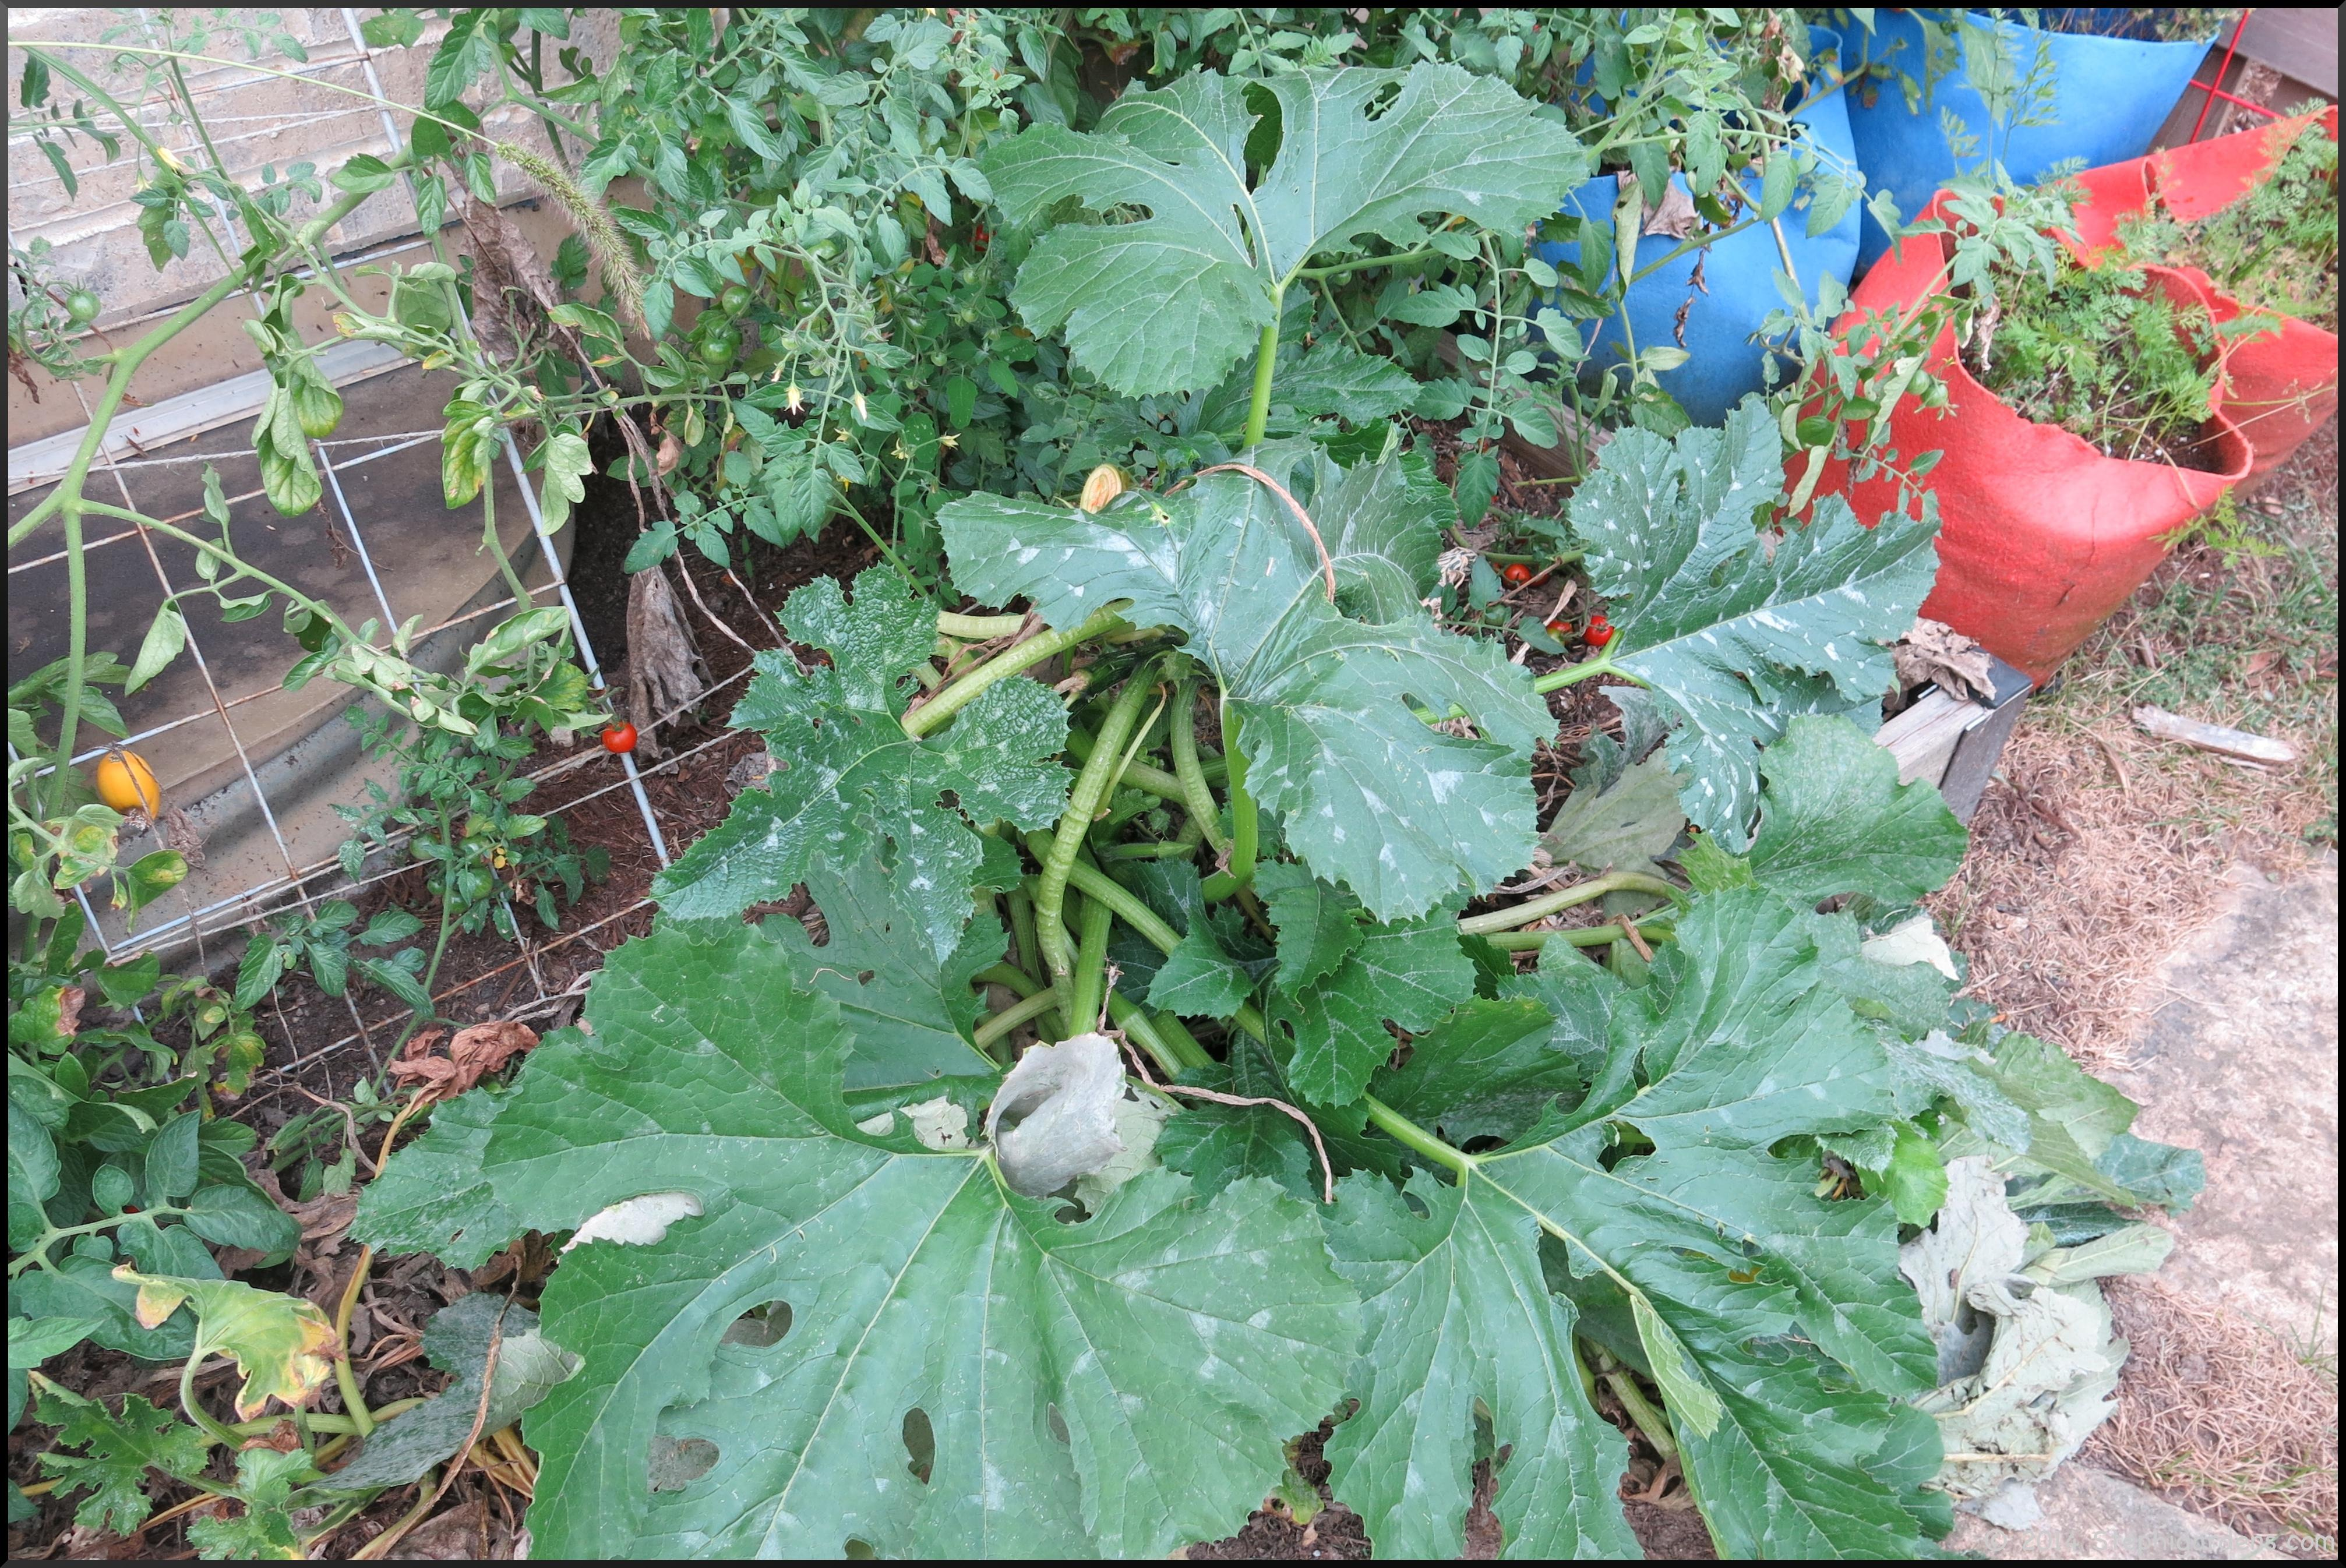Squash Powdery mildew leaf: (474, 934, 1380, 1524), (639, 562, 1081, 968), (1232, 600, 1562, 943), (906, 441, 1321, 684), (1658, 507, 1965, 698), (1557, 378, 1783, 626)
